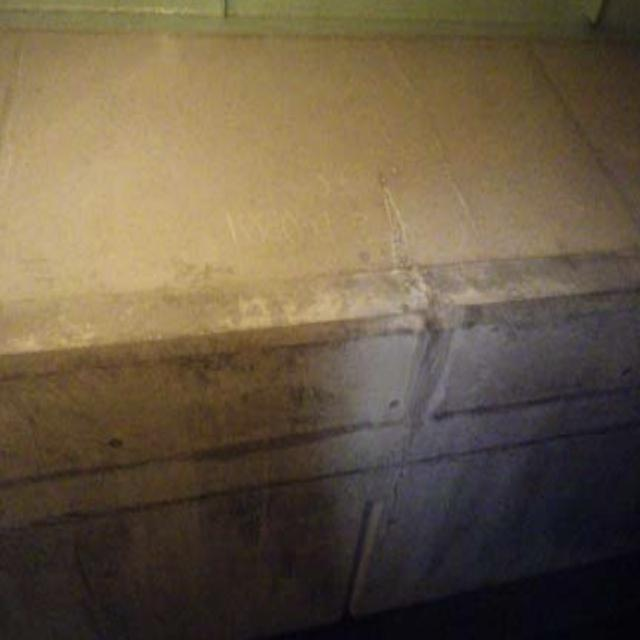spalling: (343, 326, 546, 616)
